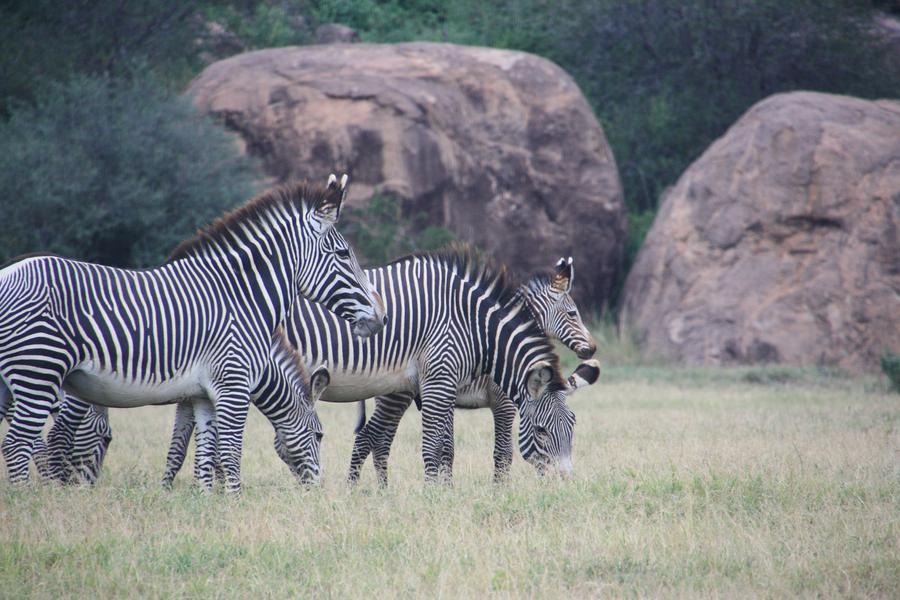zebra_grevys: (0, 248, 249, 395)
